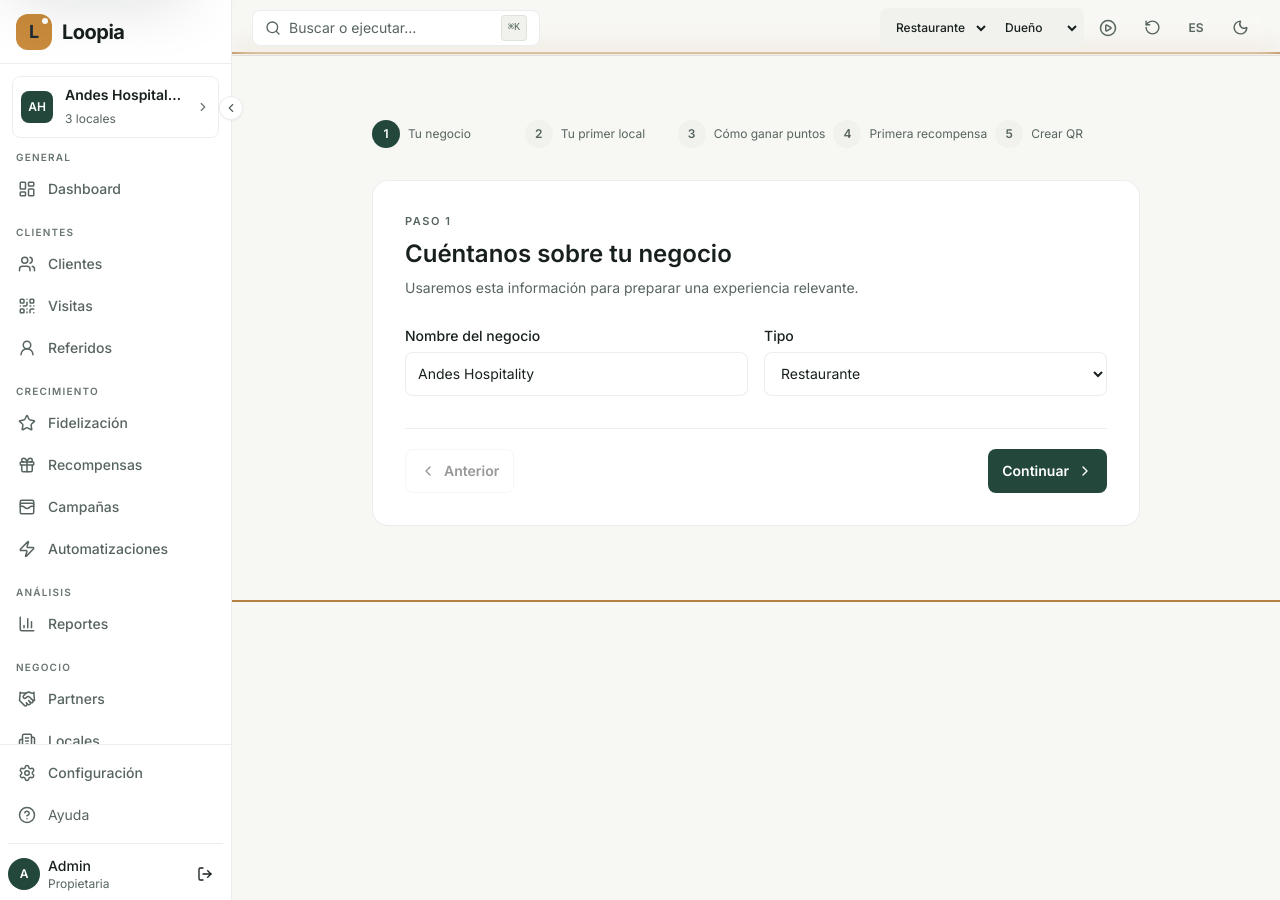
Test case: onboarding advances through progressive steps
Expected: the heading "Cuéntanos sobre tu negocio" is shown, 405,238 -> 732,268
What coordinates should you click on to do the following:
click the button "Continuar"
I would click on:
 (1048, 470)
Its box is 988,448 -> 1107,492.
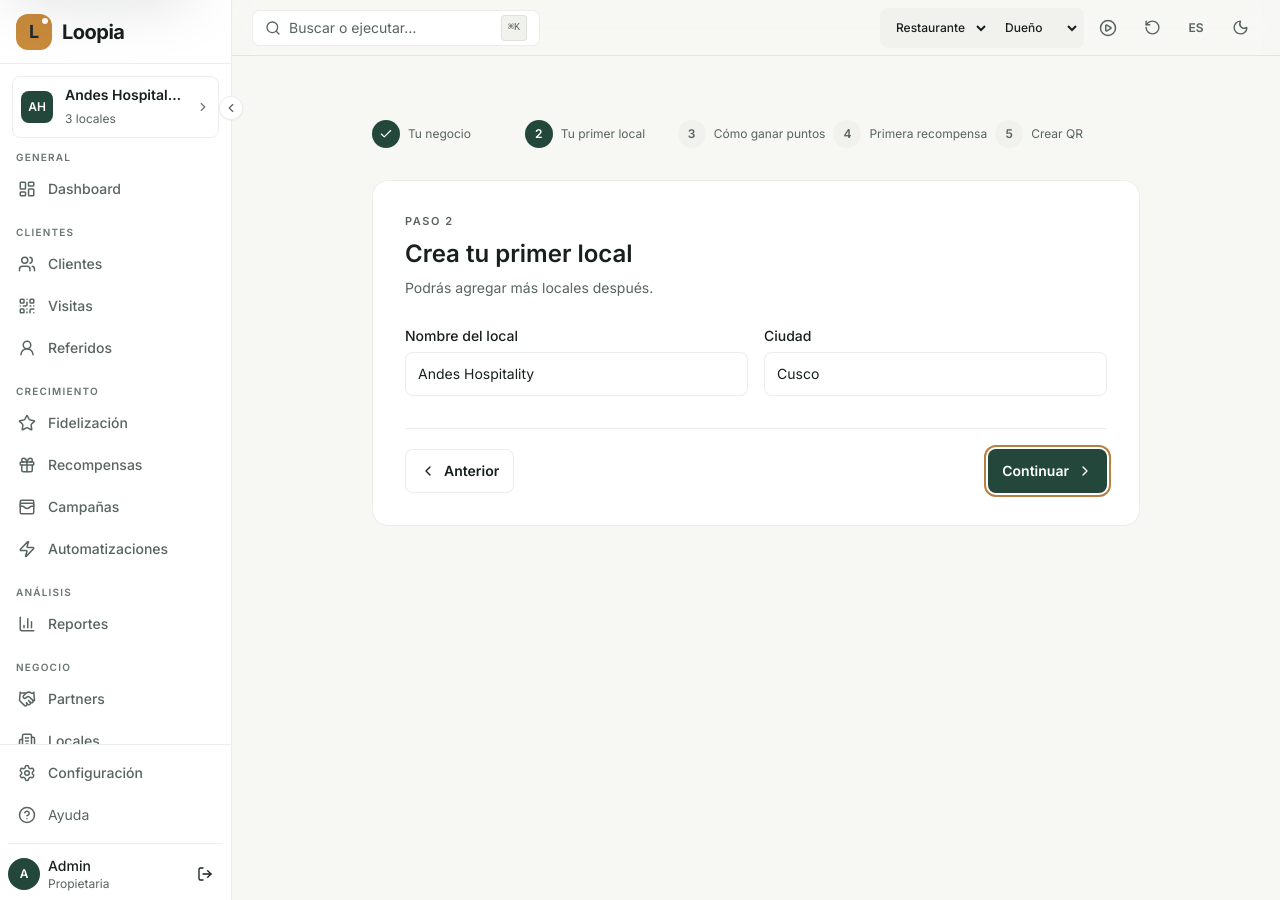
Expected: the heading "Crea tu primer local" is shown, 405,238 -> 633,268
